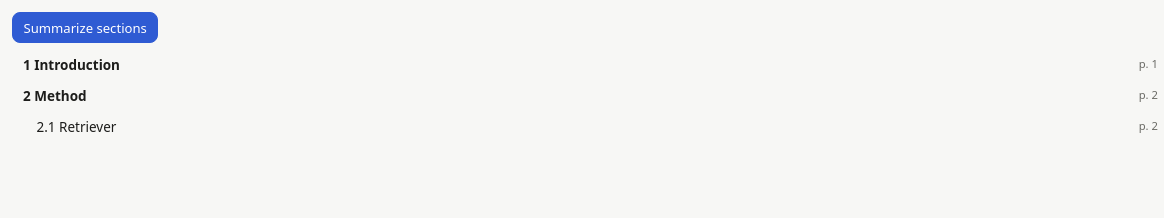
SectionsPanel › writes one-sentence summaries on request
Later steps or results of the test are not shown.
Step 1. Click the button "Summarize sections" → (85, 28), box [12,12,158,43]
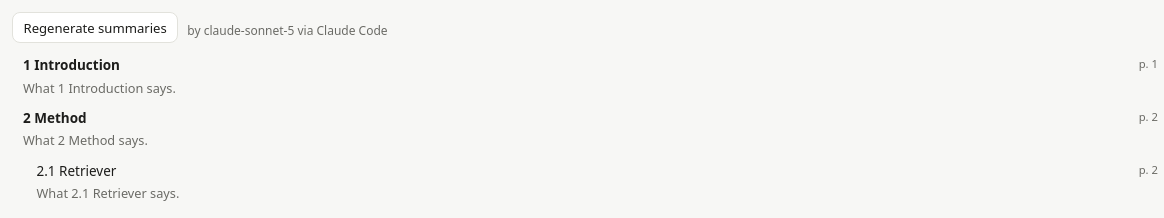
Expected: the button "Regenerate summaries" is enabled, [12,12,178,43]
Expected: the text "What 2 Method says." is shown, [23,131,148,149]
Expected: the text "by claude-sonnet-5 via Claude Code" is shown, [187,22,388,41]
